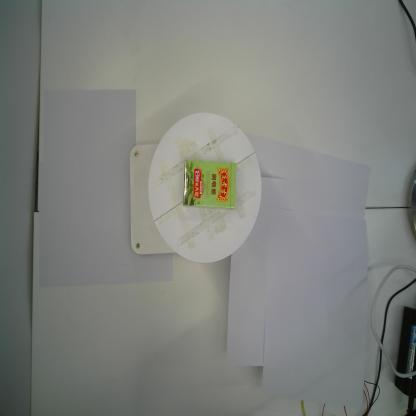Candy: (183, 159, 237, 209)
